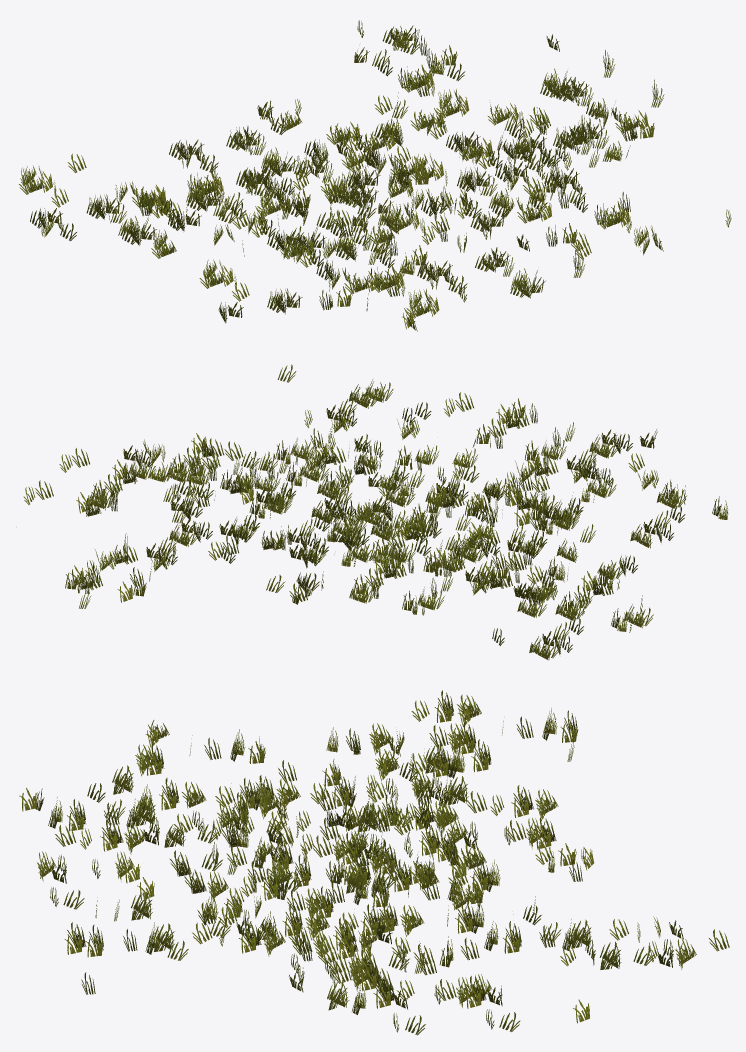
File: Grass_Short_Group_01_Low.fbx
3 views of the same model, one above another, from view 1: azimuth 30°, elevation 25°; view 2: azimuth 150°, elevation 25°; view 3: azimuth 270°, elevation 25° (orthographic). The views are drawn at different scales.
Visible parts, largest first — view 1: polySurface3; view 2: polySurface3; view 3: polySurface3.
Boxes of the visible parts, bbox=[...] form: polySurface3: bbox=[19, 20, 731, 331]; polySurface3: bbox=[23, 364, 728, 660]; polySurface3: bbox=[19, 690, 729, 1035].
Bounding box in the file's own units: 75.77 × 2.92 × 69.64.
1 material, 1 textured.
